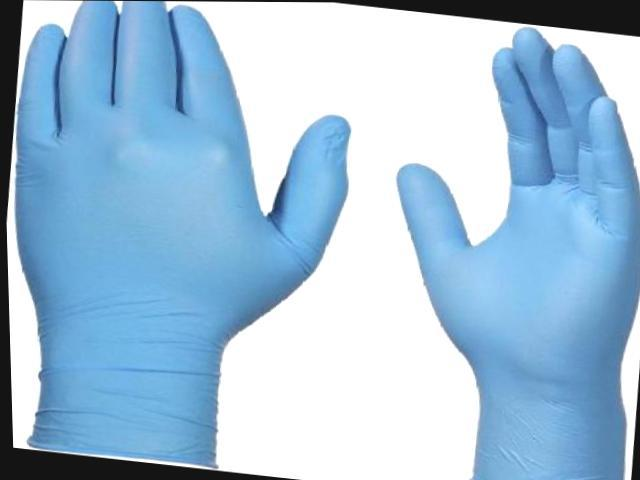Hand-in-Glove: (0, 0, 375, 480), (360, 10, 640, 480)
